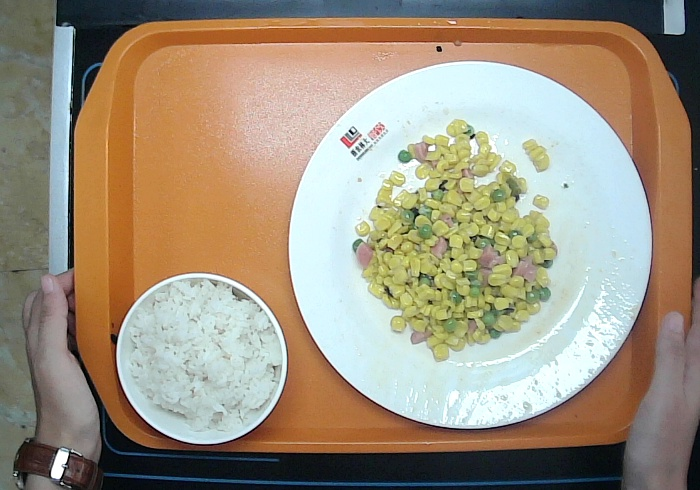ZNLD-Da_Yuan_Pan: (289, 63, 656, 431)
ZNLD-Fan_Wan: (116, 272, 289, 449)
